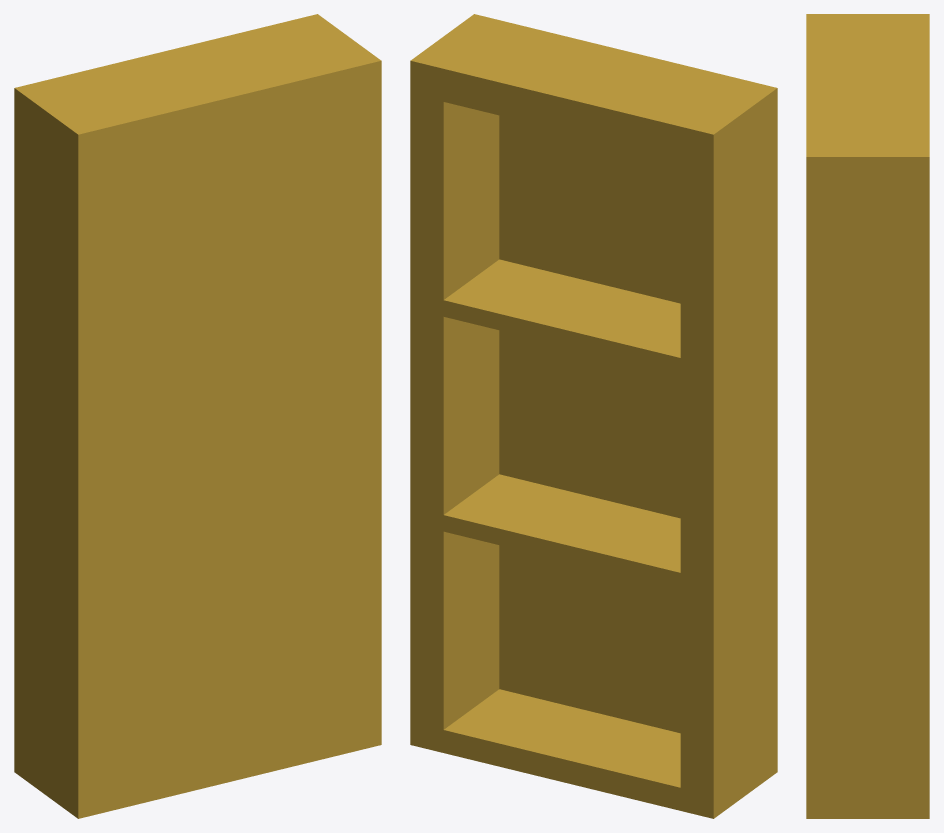
File: shelfOfDOOOOOOM.fbx
3 views of the same model, side by side, from view 1: azimuth 30°, elevation 25°; view 2: azimuth 150°, elevation 25°; view 3: azimuth 270°, elevation 25° (orthographic). The views are drawn at different scales.
Parts seen in each view (by area): view 1: shelfBooks1; view 2: shelfBooks1; view 3: shelfBooks1.
Boxes of the visible parts, bbox=[...] form: shelfBooks1: bbox=[14, 14, 381, 818]; shelfBooks1: bbox=[410, 14, 777, 818]; shelfBooks1: bbox=[806, 14, 929, 818].
Bounding box in the file's own units: 96 × 207 × 35.
